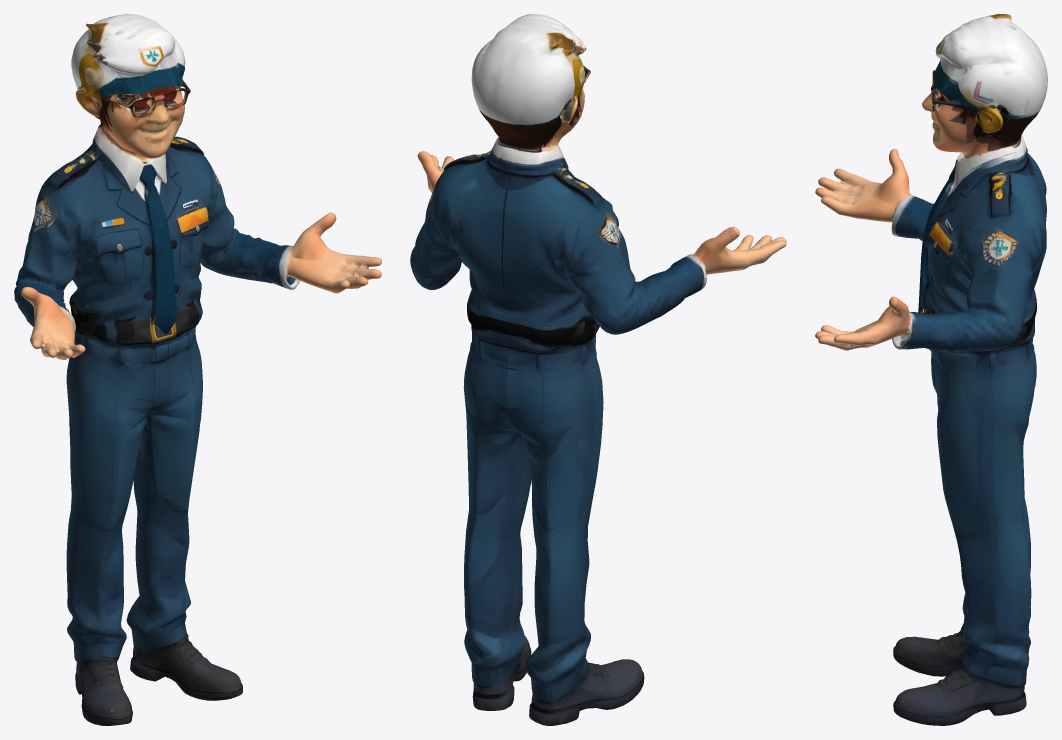
File: npc_station_announcer.glb
3 renders of one model, left to right at view 1: azimuth 30°, elevation 25°; view 2: azimuth 150°, elevation 25°; view 3: azimuth 270°, elevation 25°, orthographic. The views are drawn at different scales.
Parts seen in each view (by area): view 1: Mesh_0; view 2: Mesh_0; view 3: Mesh_0.
Boxes of the visible parts, x1,y1,x2,y2 form: Mesh_0: (14,14,381,725); Mesh_0: (410,14,786,725); Mesh_0: (815,14,1047,725).
Size of the model in its own units: 0.9875 by 1.8 by 0.5714.
1 material, 1 textured.
